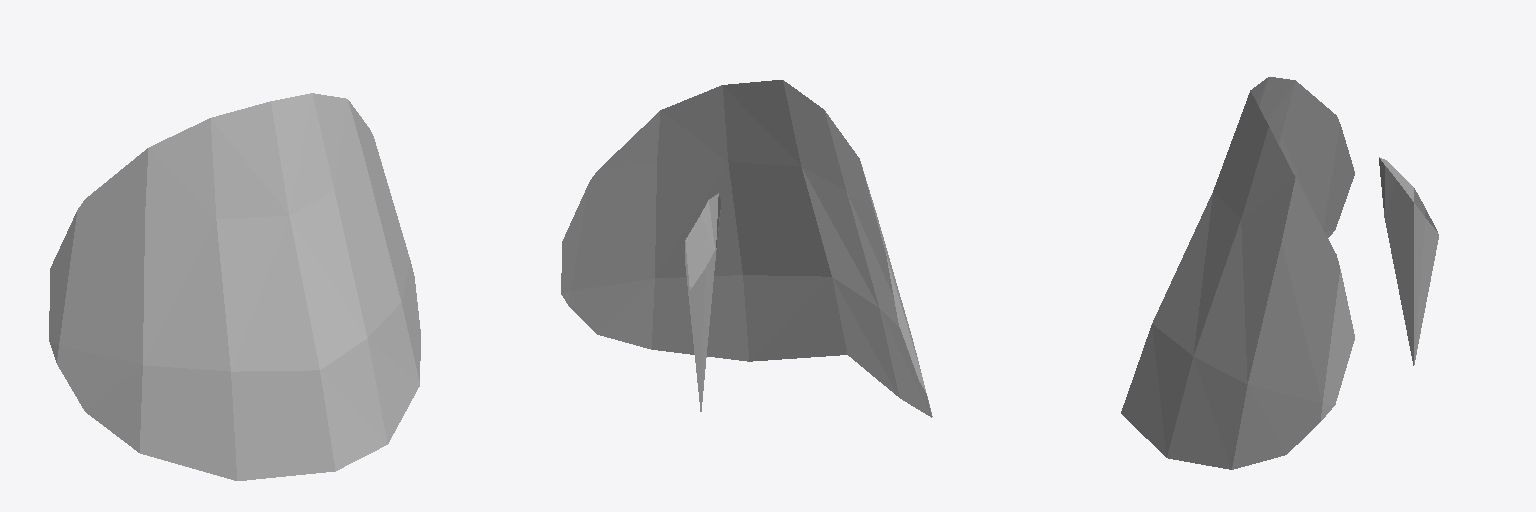
File: spaceship_window.obj
The picture shows the model from 3 angles: view 1: azimuth 30°, elevation 25°; view 2: azimuth 150°, elevation 25°; view 3: azimuth 270°, elevation 25°; orthographic projection.
Visible parts, largest first — view 1: Window_Cube.001; view 2: Window_Cube.001; view 3: Window_Cube.001.
Boxes of the visible parts, x1,y1,x2,y2 form: Window_Cube.001: [49, 93, 420, 480]; Window_Cube.001: [561, 80, 932, 417]; Window_Cube.001: [1121, 77, 1438, 469].
Size of the model in its own units: 0.8124 by 0.7177 by 0.6255.